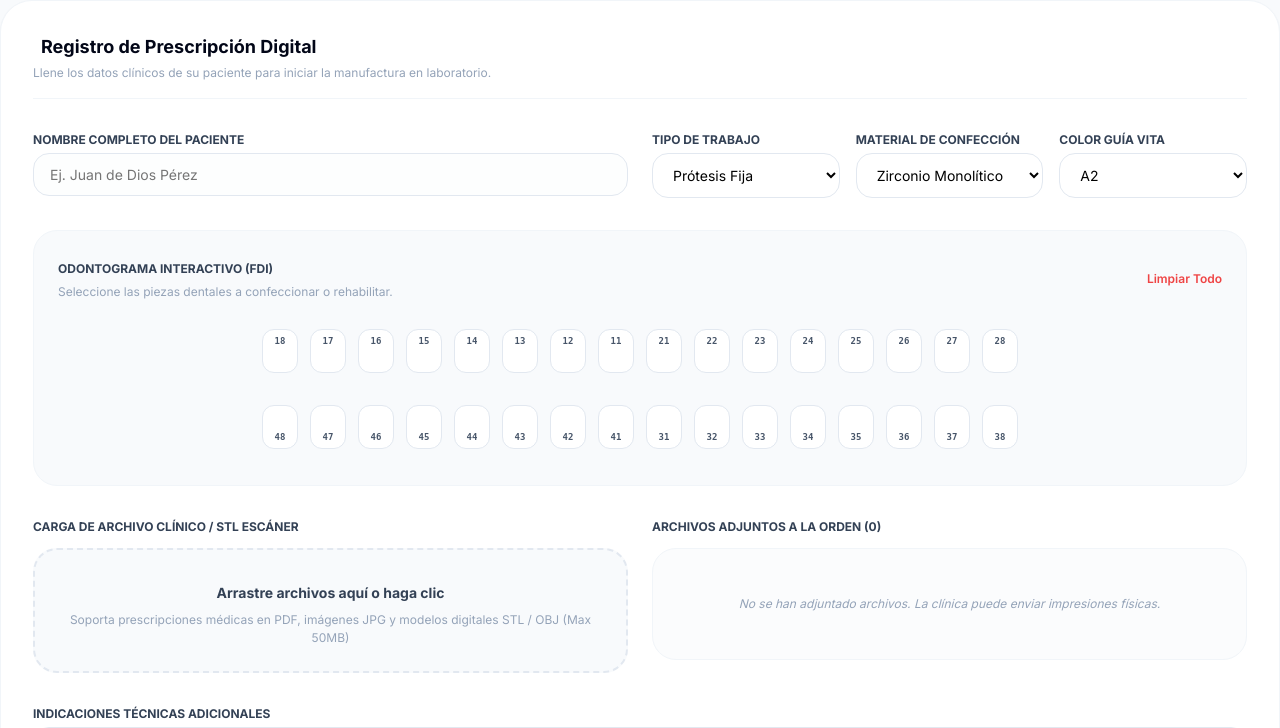
NewOrderForm — selects del catálogo › al elegir Férula de Bruxismo el acabado es Transparente y material PMMA rígida
Select "Férula de Bruxismo" in the dropdown below "Tipo de Trabajo": (746, 176) 652,153 -> 840,198
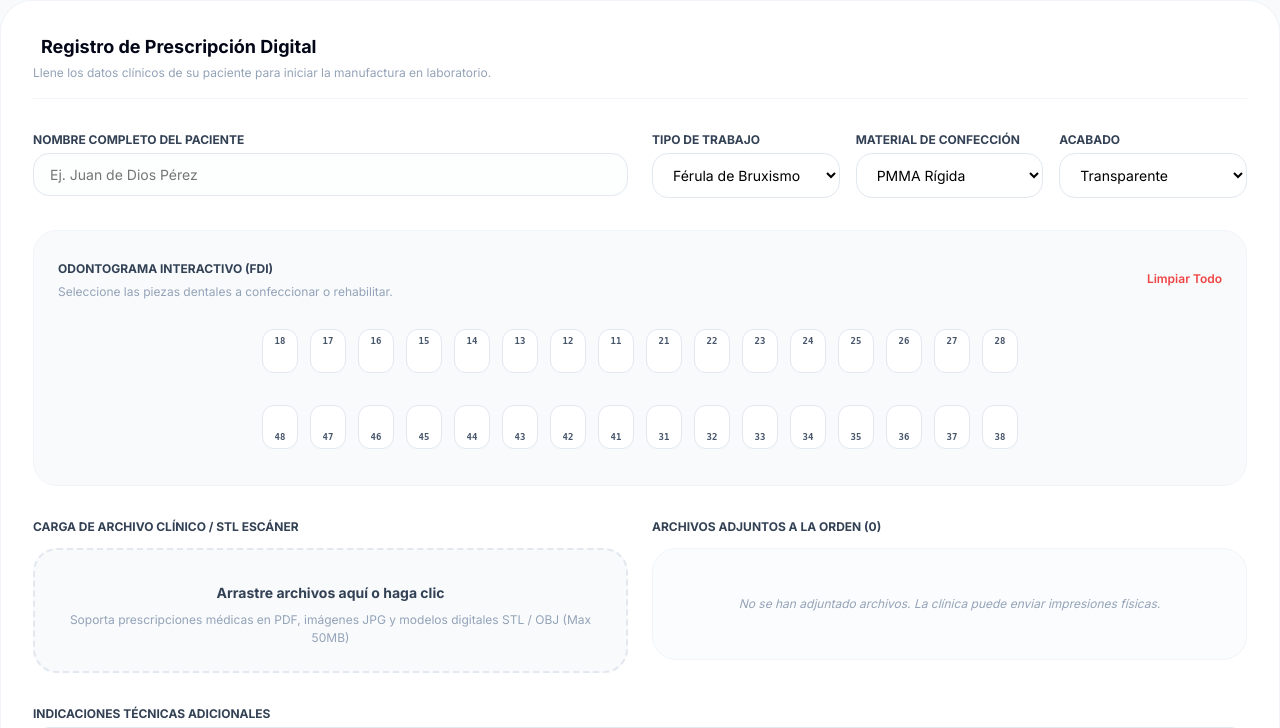
Expected: the dropdown with test id "select-color" shows "Transparente", 1059,153 -> 1247,198
